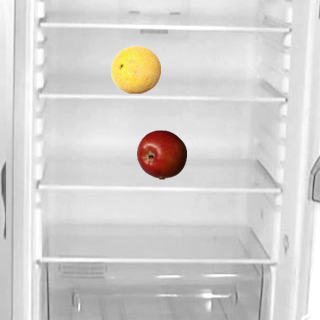Apple Braeburn: (136, 129, 186, 179)
Cantaloupe 1: (110, 44, 160, 94)
